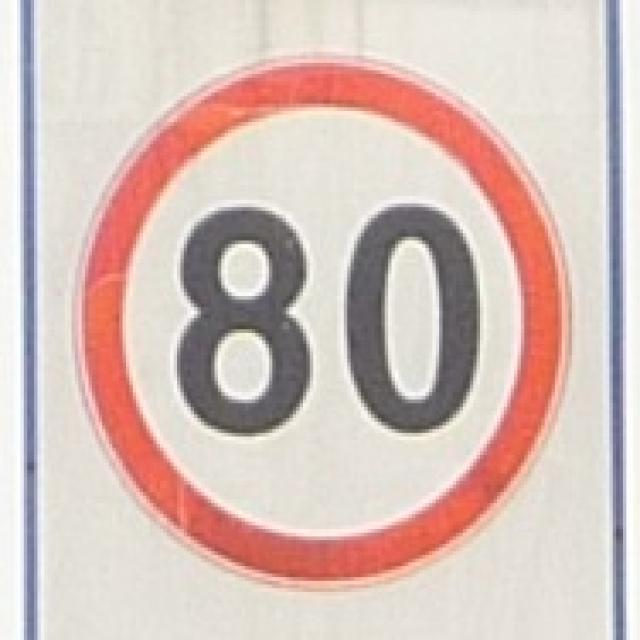Speed Limit -80-: (173, 200, 483, 443)
